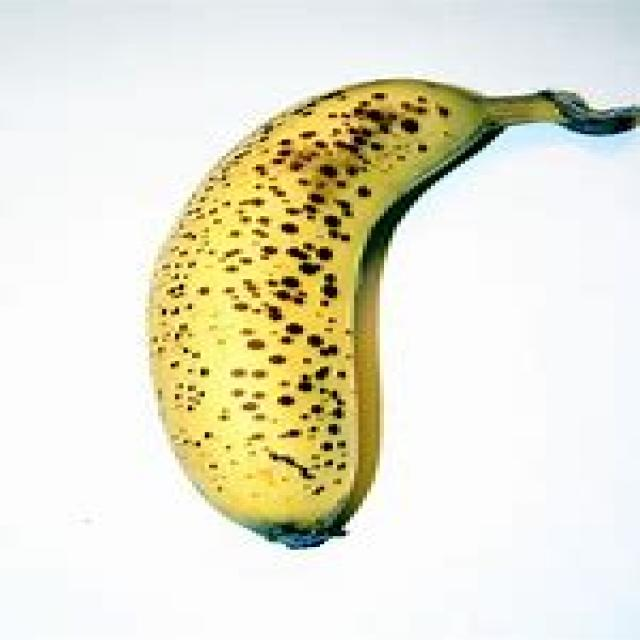Banana: (149, 79, 640, 550)
